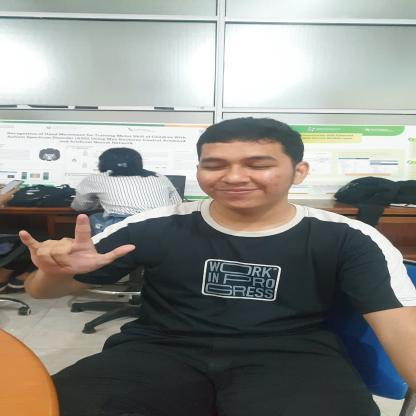ILoveYou: (8, 209, 140, 298)
